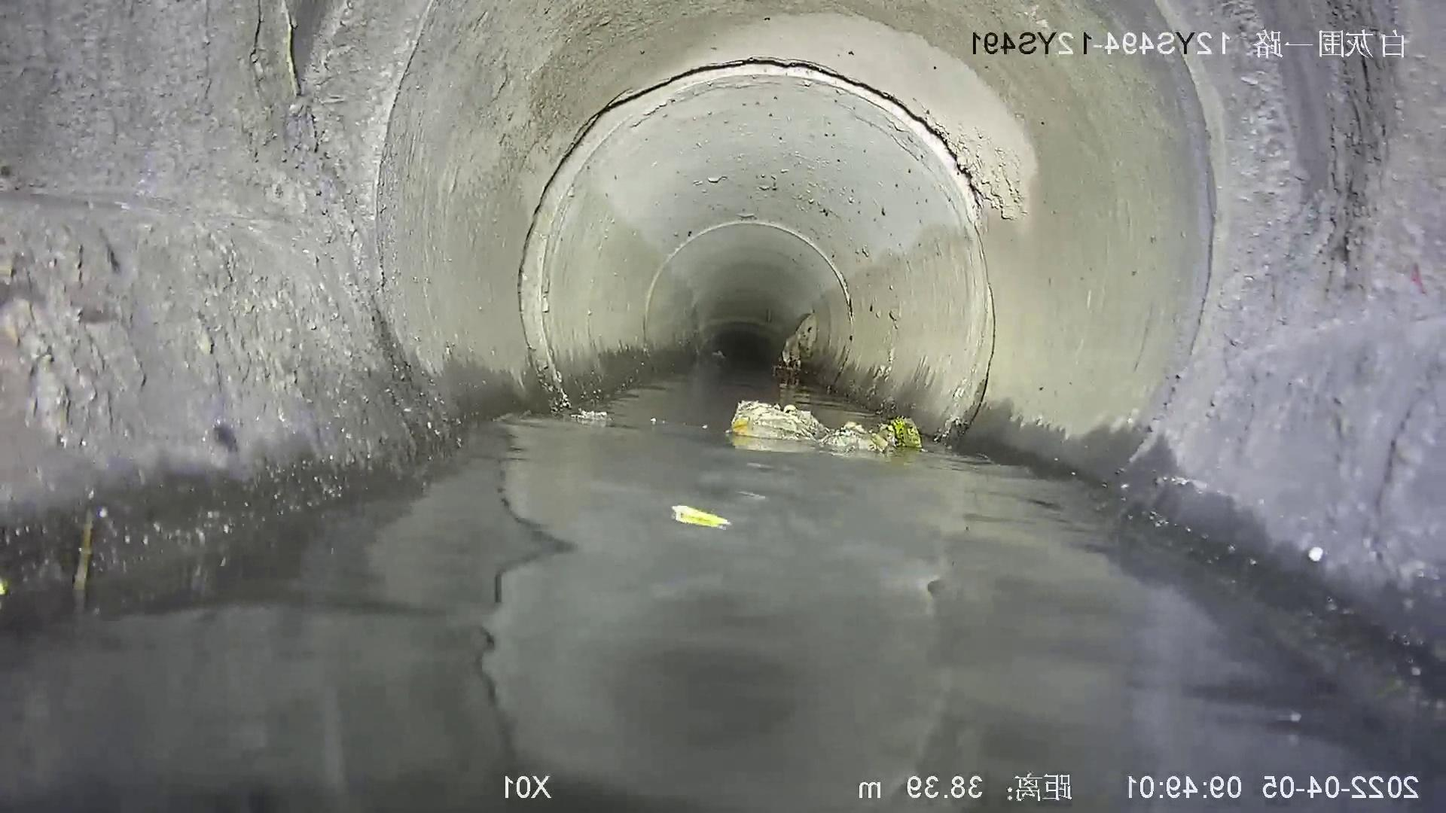CKTJ: (518, 58, 982, 406)
ZAW: (730, 400, 922, 453)
